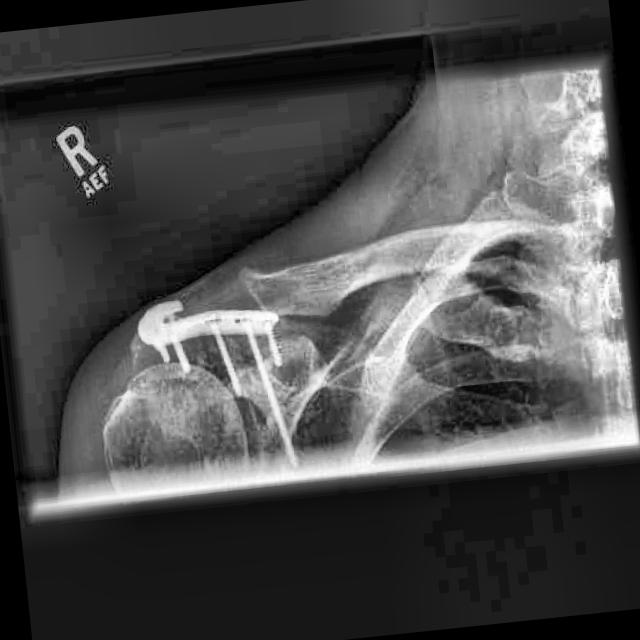shoulder fracture: (185, 304, 239, 373)
